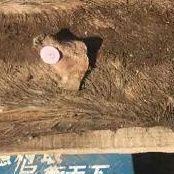text: (29, 36, 67, 74)
